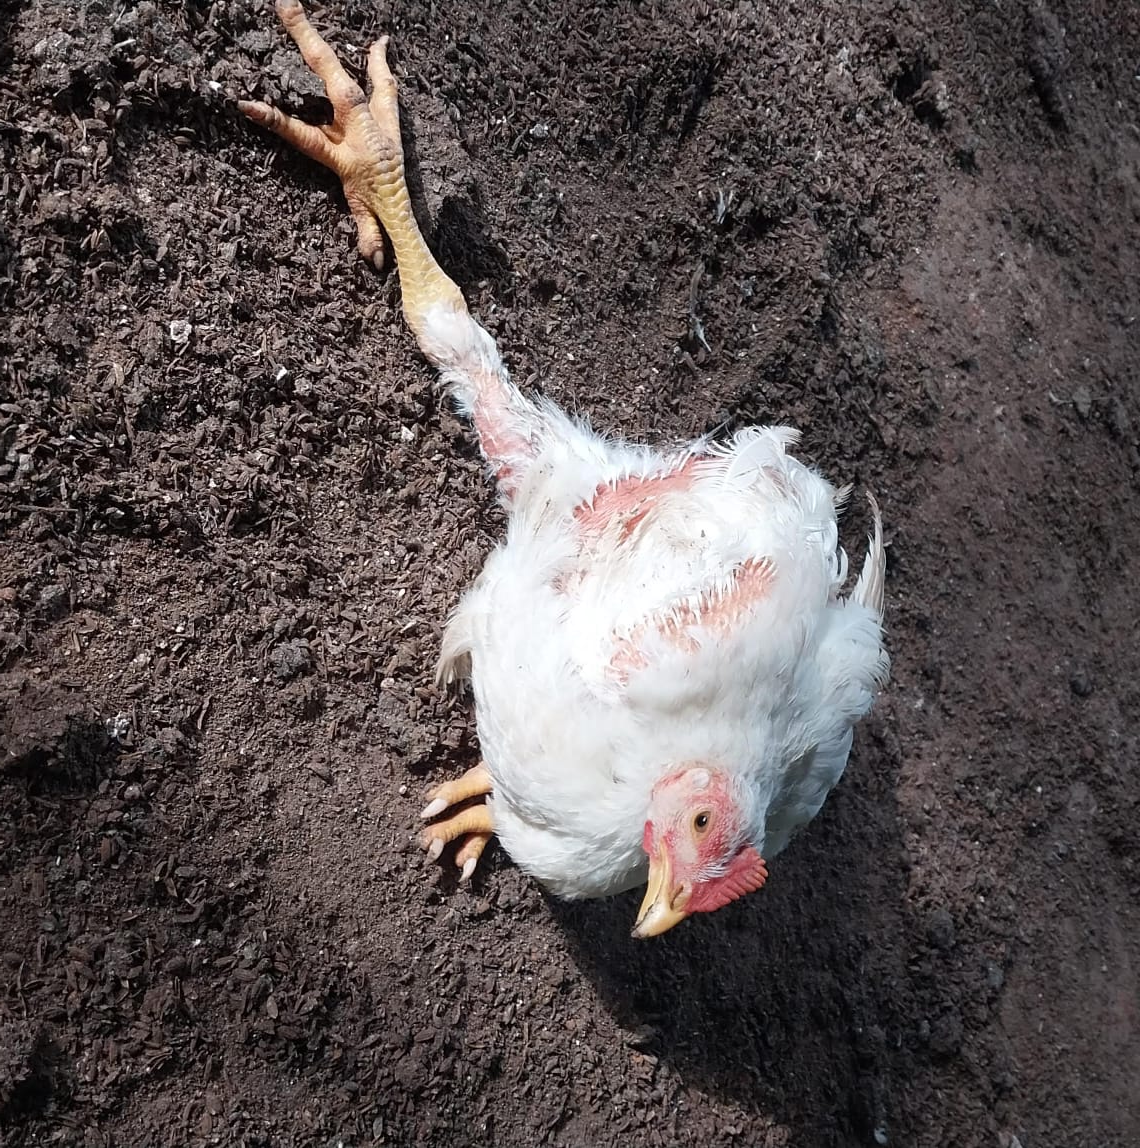Unhealthy: (236, 1, 939, 954)
